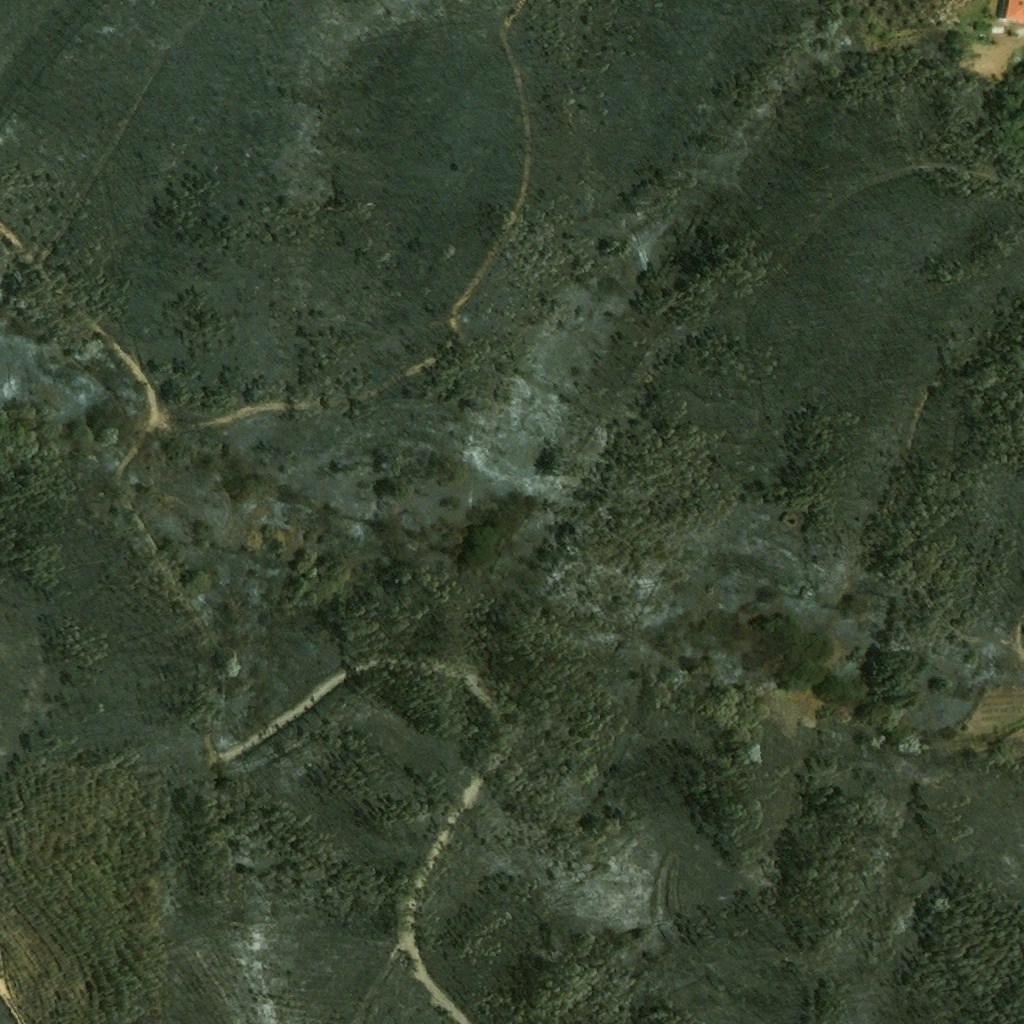4 un-classified: (1002, 0, 1023, 23)
